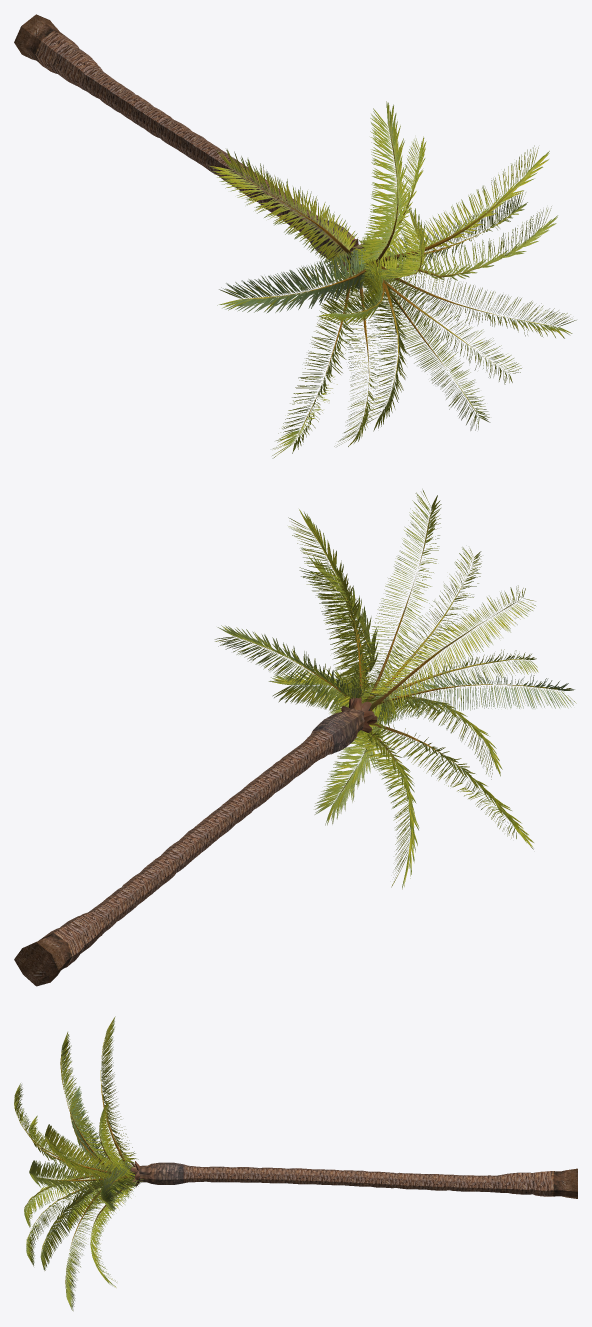
The model's file is palm-tree-498-separate.glb.
The picture shows the model from 3 angles, top to bottom: view 1: azimuth 30°, elevation 25°; view 2: azimuth 150°, elevation 25°; view 3: azimuth 270°, elevation 25°; orthographic projection. The views are drawn at different scales.
Parts seen in each view (by area): view 1: palm, trunk_Palm; view 2: palm, trunk_Palm; view 3: palm, trunk_Palm.
Boxes of the visible parts, x1=… form: palm: x1=208, y1=101, x2=576, y2=458; trunk_Palm: x1=14, y1=14, x2=360, y2=267; palm: x1=214, y1=489, x2=576, y2=889; trunk_Palm: x1=14, y1=707, x2=370, y2=986; palm: x1=14, y1=1016, x2=143, y2=1311; trunk_Palm: x1=128, y1=1162, x2=577, y2=1198.
Bounding box in the file's own units: 5.74 × 6.04 × 12.
Materials: 3 (3 with a texture image).
